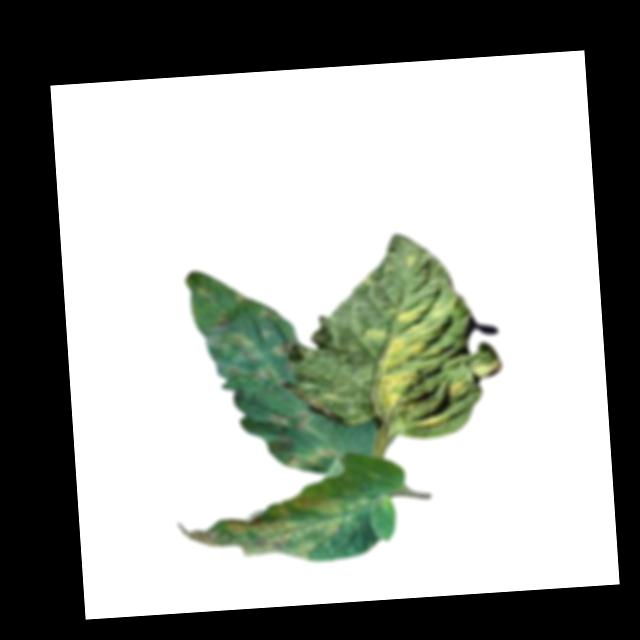Leaf_Mold: (175, 490, 344, 567), (363, 300, 444, 418), (206, 326, 263, 368), (282, 442, 339, 474), (262, 406, 312, 431), (251, 363, 285, 389), (412, 411, 450, 432), (259, 299, 282, 323), (269, 337, 292, 359), (448, 373, 469, 397)
